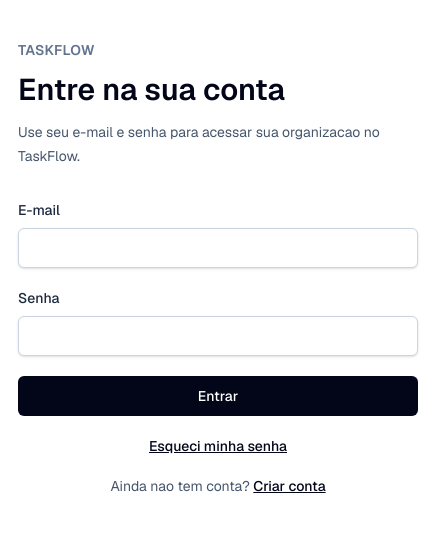
Test case: LoginPage › validates login fields
This screenshot has width=437, height=538.
Click the button "Entrar" at x=218, y=396, box left=18, top=376, right=418, bottom=416
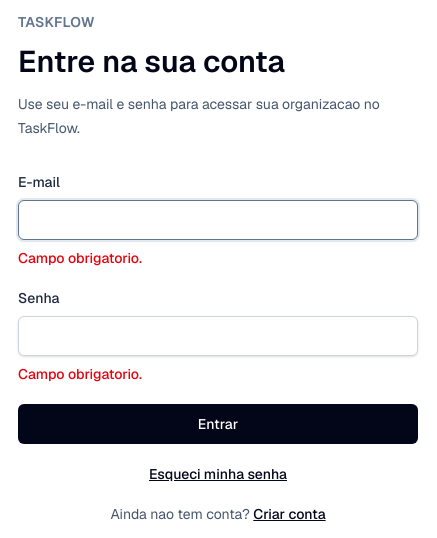
Result: the text "Campo obrigatorio." is shown 2 times at left=18, top=249, right=142, bottom=267; left=18, top=365, right=142, bottom=383
